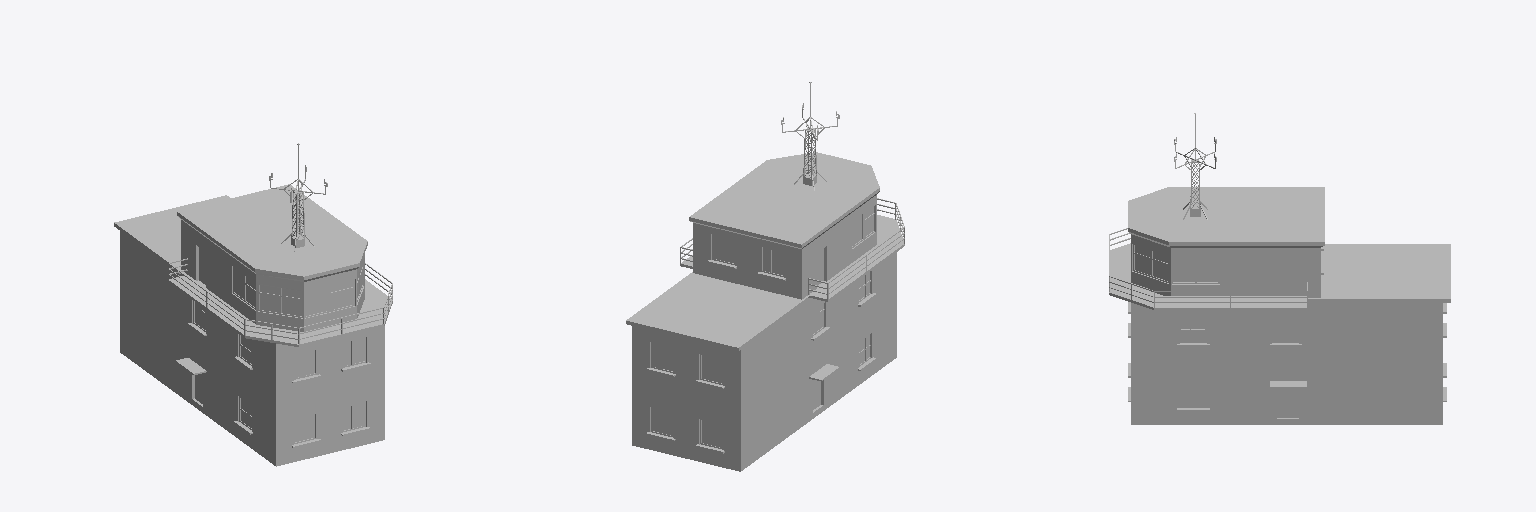
Rendered from tower.obj.
3 renders of one model, left to right at view 1: azimuth 30°, elevation 25°; view 2: azimuth 150°, elevation 25°; view 3: azimuth 270°, elevation 25°, orthographic.
Parts seen in each view (by area): view 1: tower, tower.001; view 2: tower.001, tower; view 3: tower, tower.001.
Part boxes in pixels (x1,y1,x2,y2): tower: (114,144,392,465); tower.001: (114,143,392,466); tower.001: (626,82,904,470); tower: (626,117,904,471); tower: (1109,137,1450,424); tower.001: (1109,113,1450,424).
Size of the model in its own units: 8.43 by 15.55 by 16.88.